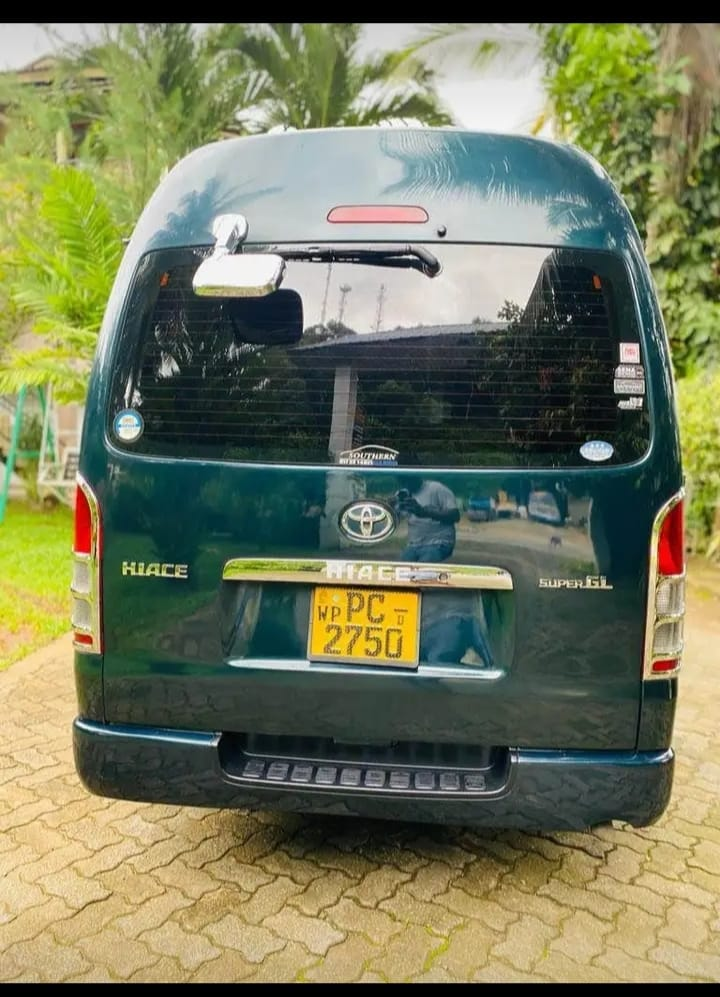number_plate: (310, 588, 419, 667)
